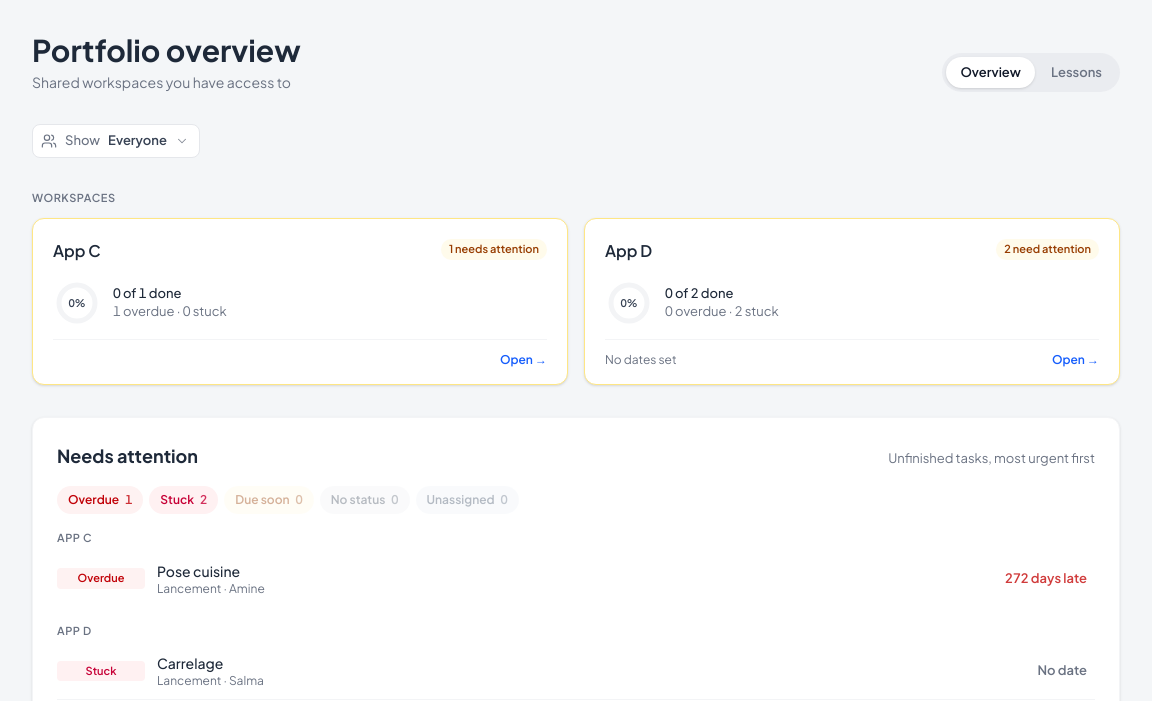
Test case: PortfolioOverview › one person's tasks › narrows the cards and the attention list to that person, and remembers them
Click the button "Show Everyone".
click(116, 141)  # box [32,124,200,158]
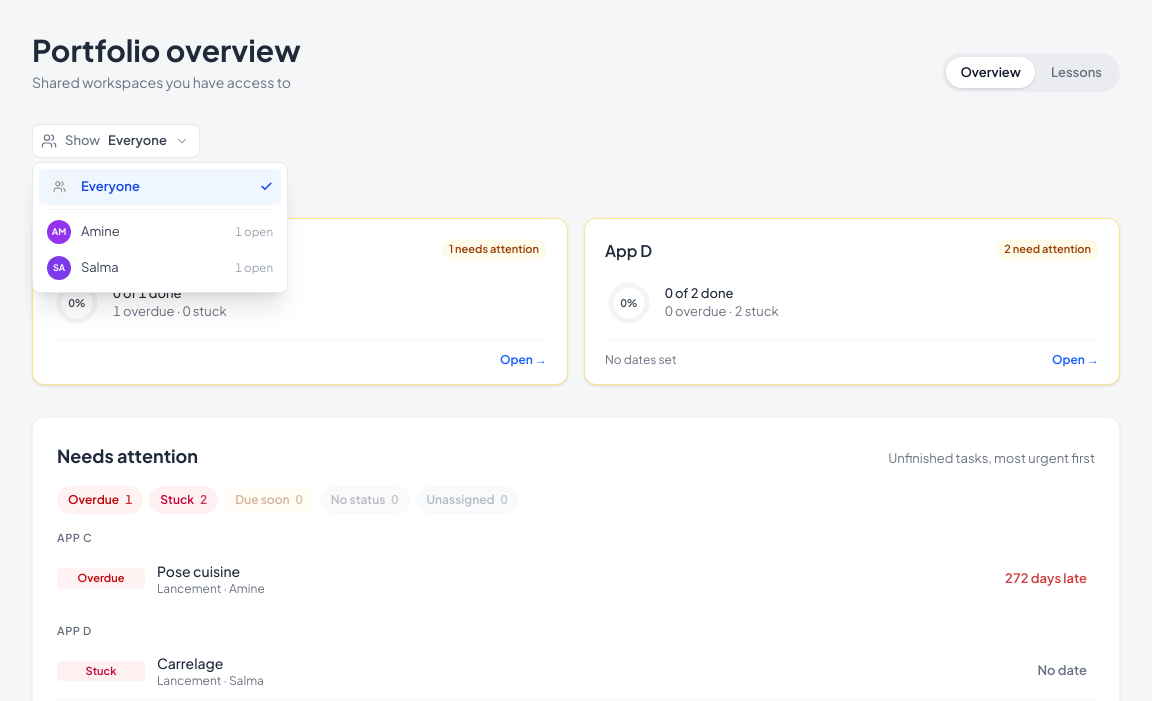
Click the option "SA Salma 1 open".
click(160, 268)  # box [39,250,281,286]
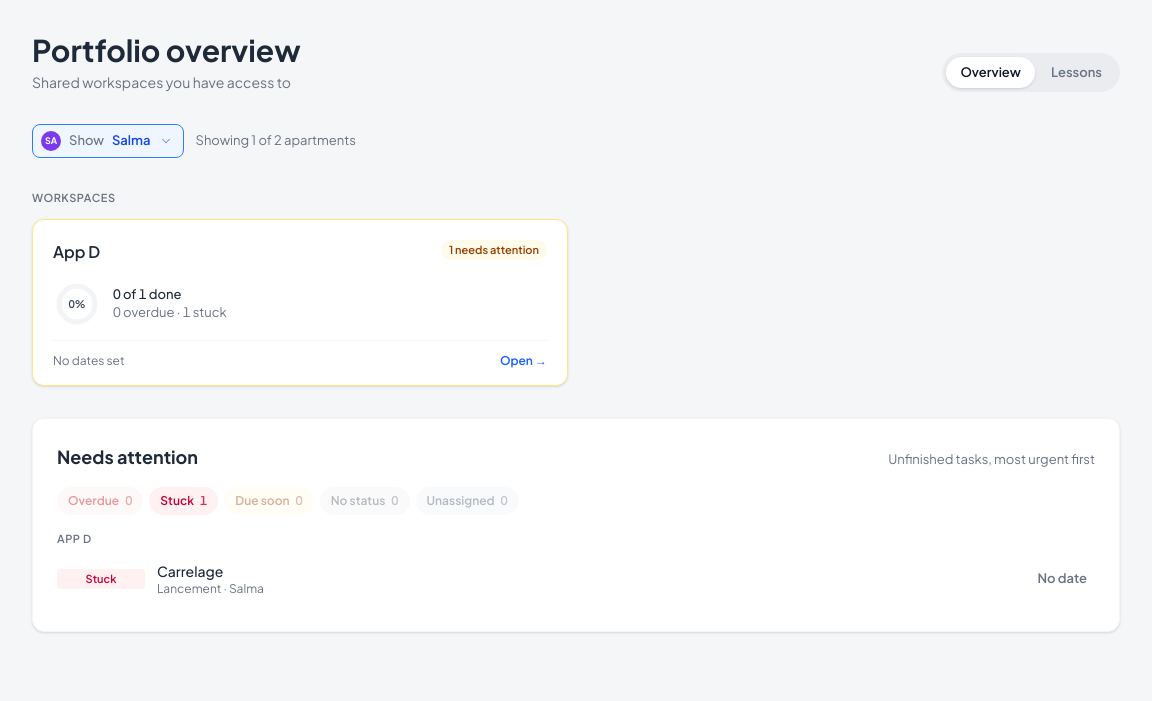
Check: the text "Carrelage" is shown, box [157,562,223,580]
Check: the text "Showing 1 of 2 apartments" is shown, box [196,131,356,151]
Check: the button "Pose cuisine" is gone
